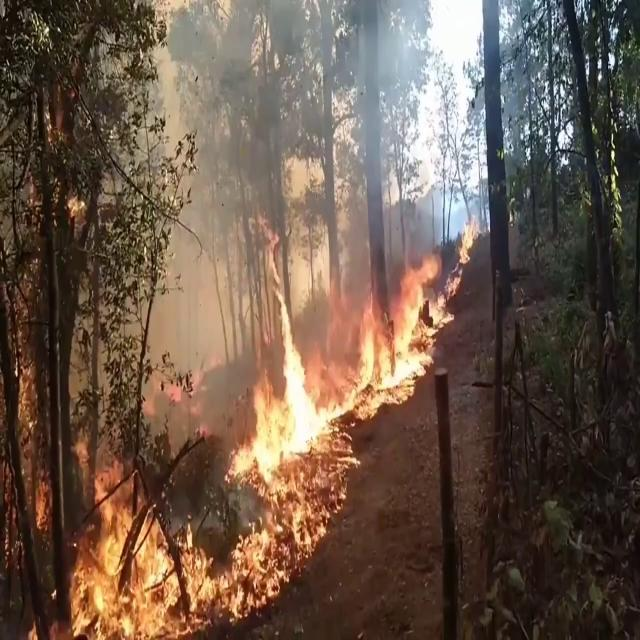Fire: (60, 448, 223, 638), (228, 296, 344, 556), (350, 252, 452, 417), (458, 210, 480, 264)
Smoke: (143, 1, 431, 298)
